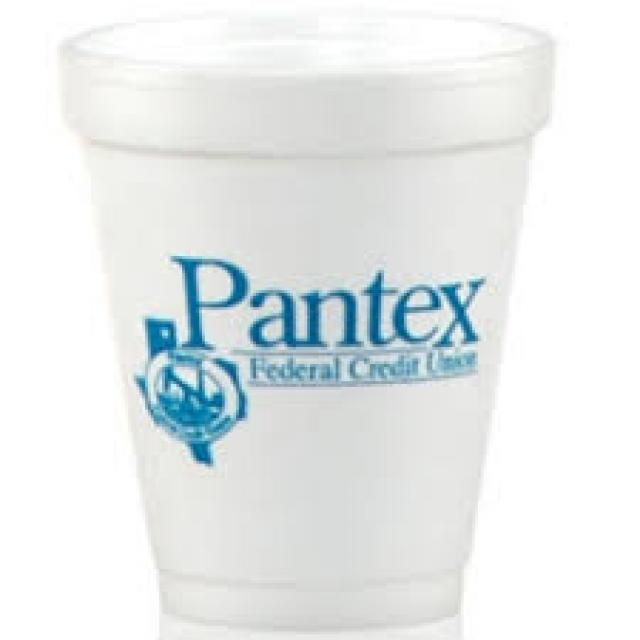trash: (51, 11, 555, 626)
